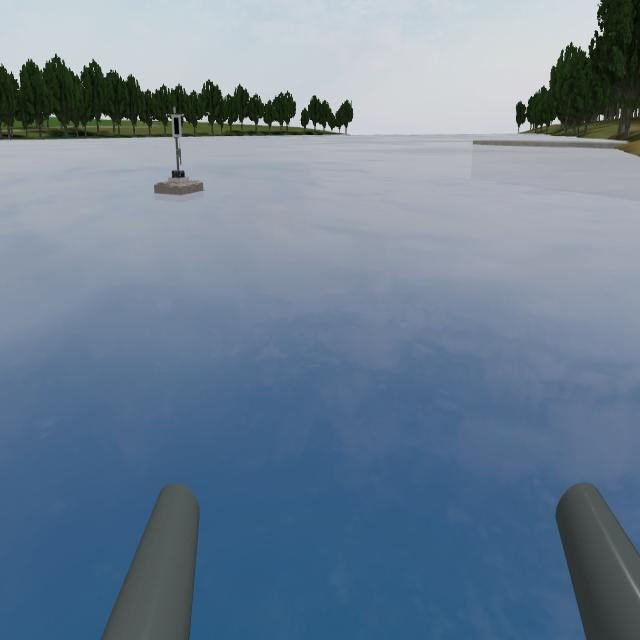black_pole: (170, 104, 182, 140)
